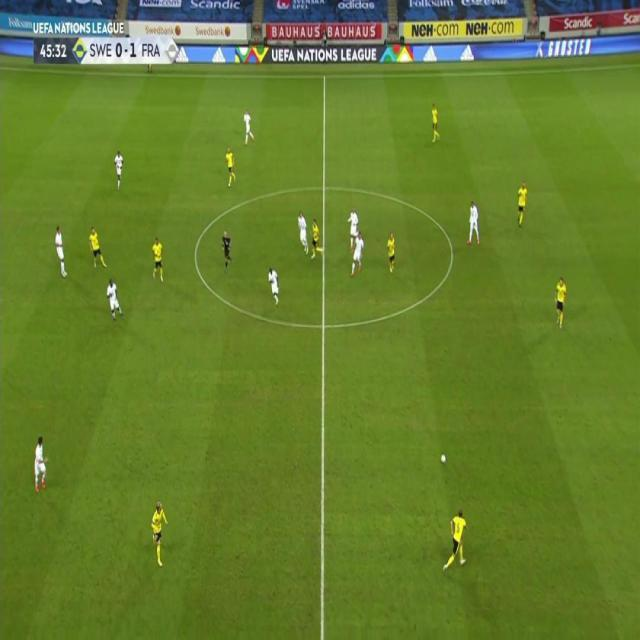ball: (440, 453, 448, 466)
player: (442, 508, 471, 579), (151, 500, 169, 571), (105, 279, 126, 325), (33, 437, 49, 493), (53, 224, 69, 278), (88, 227, 107, 269), (350, 230, 366, 278), (467, 201, 483, 247), (554, 277, 567, 332), (516, 179, 530, 229), (151, 238, 165, 286), (309, 220, 325, 259), (346, 207, 359, 253), (296, 210, 309, 255), (223, 146, 237, 187), (267, 266, 281, 307), (241, 109, 255, 148), (386, 230, 397, 276), (429, 102, 441, 143), (114, 151, 124, 193)
referee: (222, 230, 234, 274)
